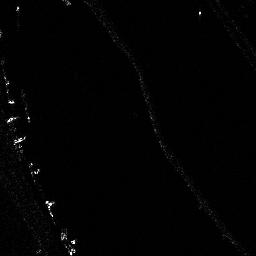ship: (59, 231, 76, 256)
